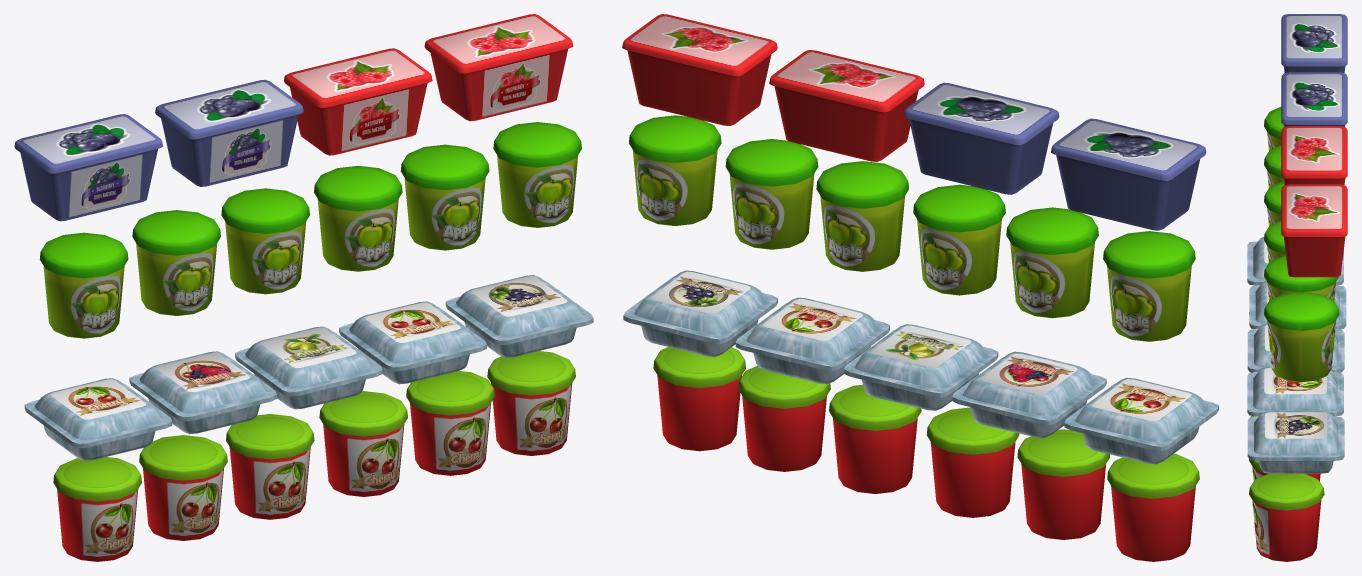
File: CommFoodStuffs02_2.FBX
The picture shows the model from 3 angles, left to right: view 1: azimuth 30°, elevation 25°; view 2: azimuth 150°, elevation 25°; view 3: azimuth 270°, elevation 25°; orthographic projection. The views are drawn at different scales.
Visible parts, largest first — view 1: CommFoodStuffs02_2; view 2: CommFoodStuffs02_2; view 3: CommFoodStuffs02_2.
Boxes of the visible parts, x1,y1,x2,y2 form: CommFoodStuffs02_2: [14, 14, 593, 561]; CommFoodStuffs02_2: [622, 14, 1218, 561]; CommFoodStuffs02_2: [1247, 14, 1347, 561].
Size of what is drawn, in the model's own units: 1.69 by 1.19 by 0.3219.
